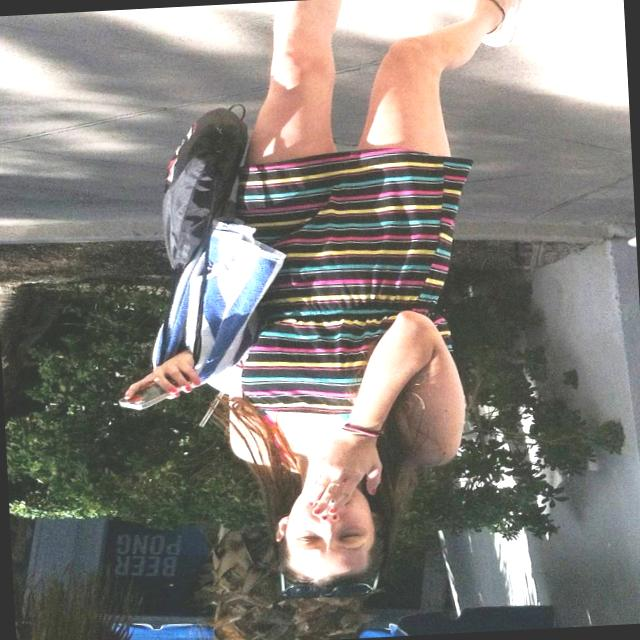smoke: (321, 496, 342, 509)
